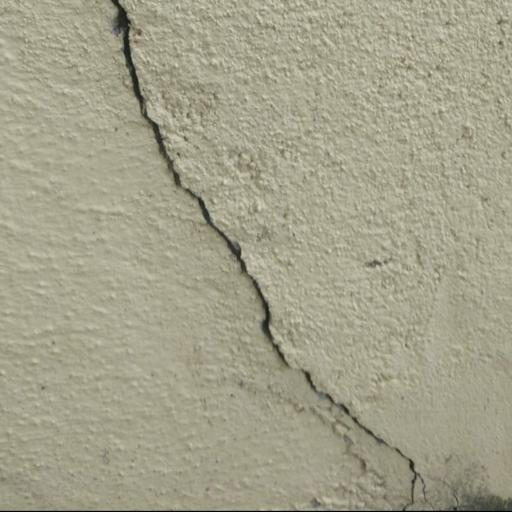major_crack: (96, 0, 444, 512)
